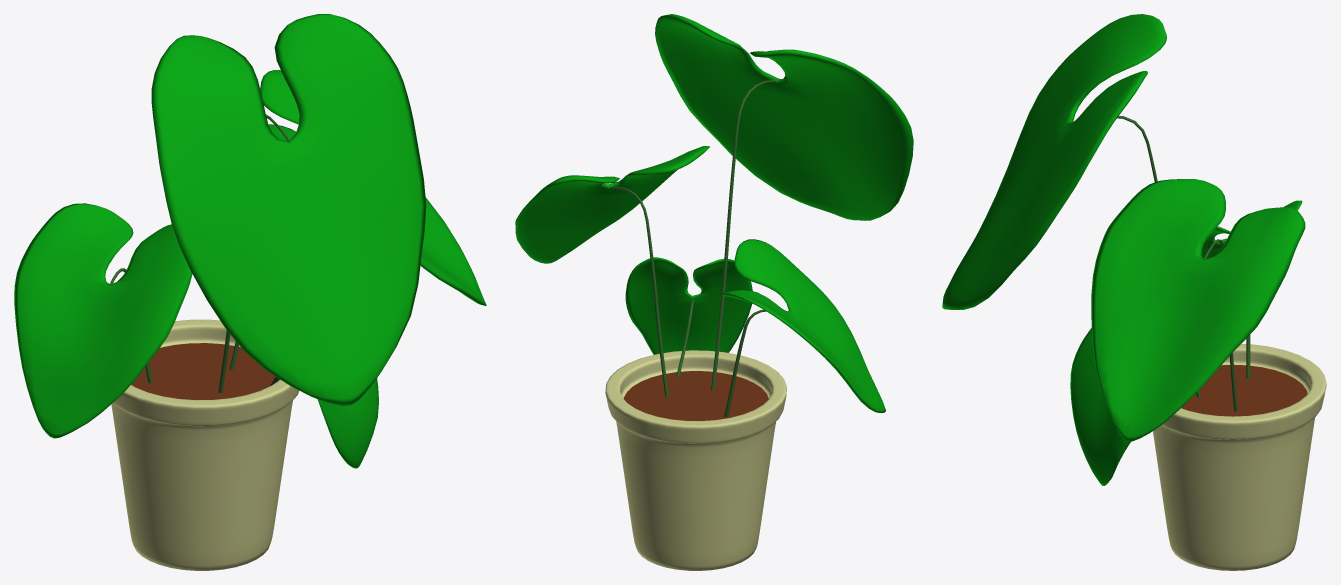
Rendered from Philodendron Gloriosum w_o texture.fbx.
3 views of the same model, side by side, from view 1: azimuth 30°, elevation 25°; view 2: azimuth 150°, elevation 25°; view 3: azimuth 270°, elevation 25° (orthographic). The views are drawn at different scales.
Visible parts, largest first — view 1: Plane, Circle, Plane.003, Circle.001, Plane.002, Plane.001, NurbsPath.003; view 2: Plane, Circle, Plane.001, Plane.002, Plane.003, Circle.001, NurbsPath.003; view 3: Plane.002, Circle, Plane, Plane.001, Circle.001, NurbsPath.003, Plane.003.
Part boxes in pixels (x1,y1,x2,y2): Plane: (151, 14, 426, 405); Circle: (111, 319, 299, 570); Plane.003: (14, 203, 192, 438); Circle.001: (131, 343, 279, 399); Plane.002: (260, 70, 486, 305); Plane.001: (317, 378, 378, 468); NurbsPath.003: (110, 114, 289, 392); Plane: (655, 14, 913, 220); Circle: (605, 350, 786, 570); Plane.001: (625, 257, 752, 354); Plane.002: (515, 146, 709, 263); Plane.003: (722, 239, 885, 412); Circle.001: (623, 371, 768, 420); NurbsPath.003: (610, 80, 774, 417); Plane.002: (1091, 179, 1305, 441); Circle: (1153, 344, 1326, 570); Plane: (942, 14, 1166, 309); Plane.001: (1070, 327, 1131, 485); Circle.001: (1182, 364, 1307, 416); NurbsPath.003: (1117, 116, 1250, 411); Plane.003: (1201, 200, 1302, 258).
Size of the model in its own units: 46.4 by 58.82 by 41.19.
